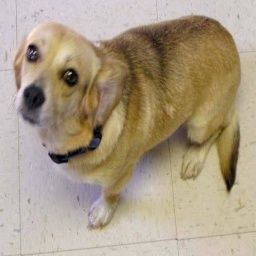dog: (13, 10, 244, 230)
